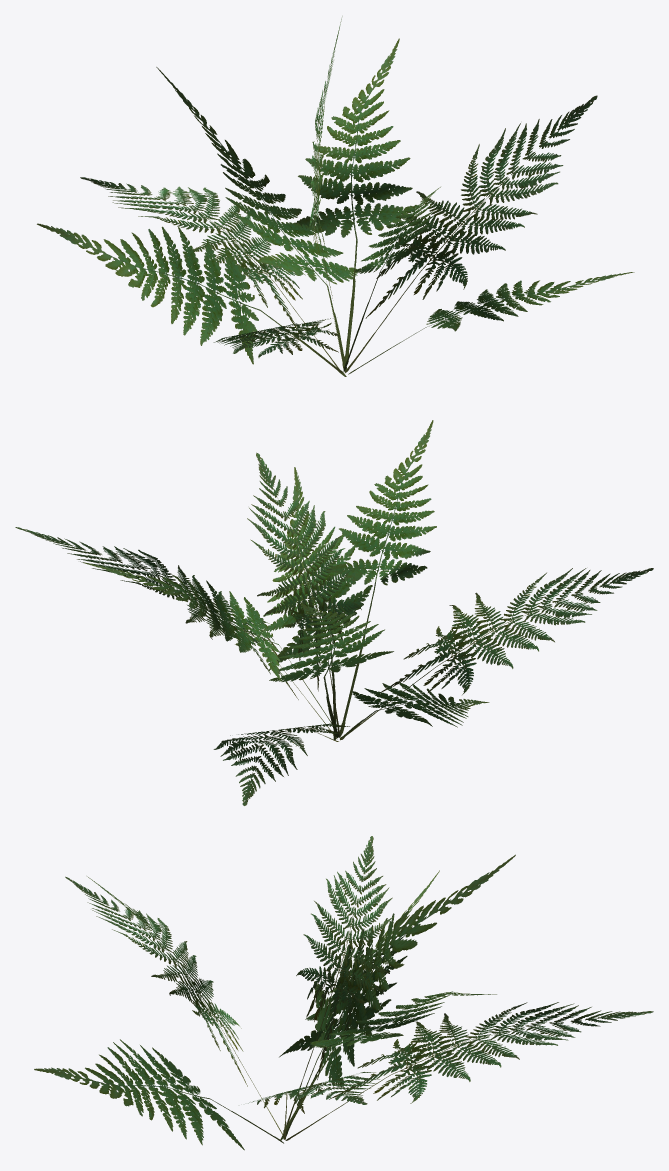
Rendered from obj__fern3.obj.
3 views of the same model, one above another, from view 1: azimuth 30°, elevation 25°; view 2: azimuth 150°, elevation 25°; view 3: azimuth 270°, elevation 25° (orthographic). The views are drawn at different scales.
Parts seen in each view (by area): view 1: fern3.tga; view 2: fern3.tga; view 3: fern3.tga.
Part boxes in pixels (bbox=[...]): fern3.tga: bbox=[37, 16, 634, 376]; fern3.tga: bbox=[15, 420, 653, 805]; fern3.tga: bbox=[34, 836, 653, 1150].
Bounding box in the file's own units: 30.86 × 17.42 × 30.94.
1 material, 1 textured.
